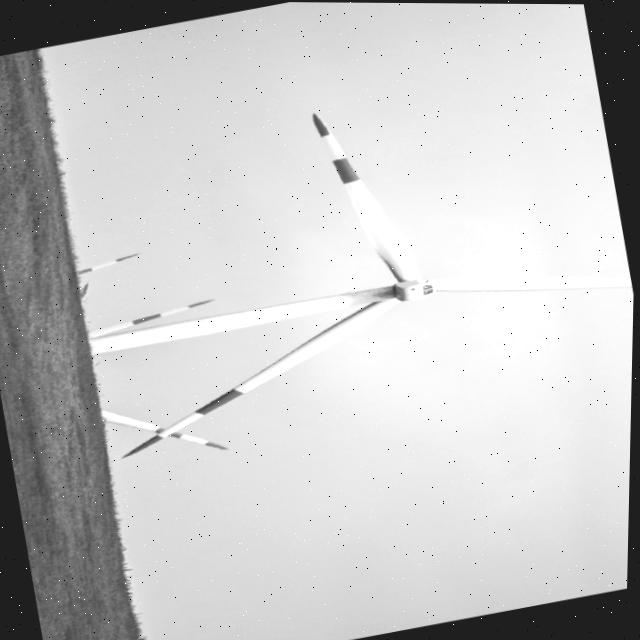solid-blade: (125, 298, 401, 457), (313, 113, 421, 280)
